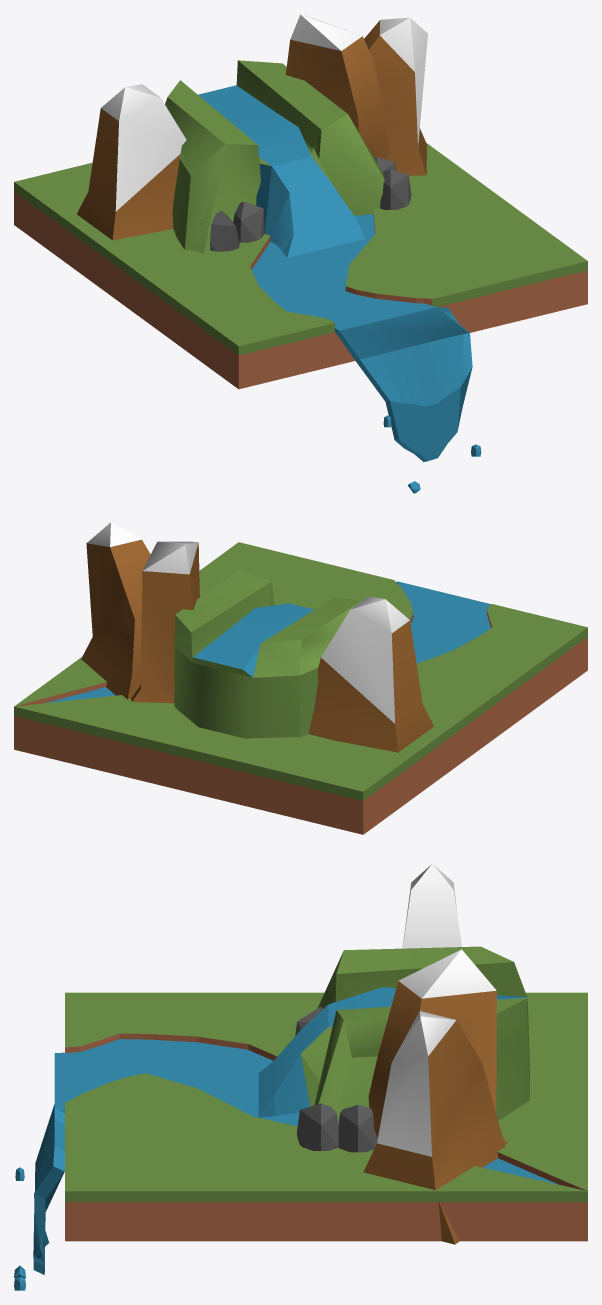
Rendered from canh_thac.glb.
3 views of the same model, one above another, from view 1: azimuth 30°, elevation 25°; view 2: azimuth 150°, elevation 25°; view 3: azimuth 270°, elevation 25° (orthographic). The views are drawn at different scales.
Parts seen in each view (by area): view 1: Pyramid001; view 2: Pyramid001; view 3: Pyramid001.
Boxes of the visible parts, left/top/right/bottom form: Pyramid001: left=14, top=14, right=587, bottom=493; Pyramid001: left=14, top=522, right=587, bottom=834; Pyramid001: left=14, top=863, right=587, bottom=1290.
Size of the model in its own units: 121 by 104 by 145.
Materials: 1 (1 with a texture image).
